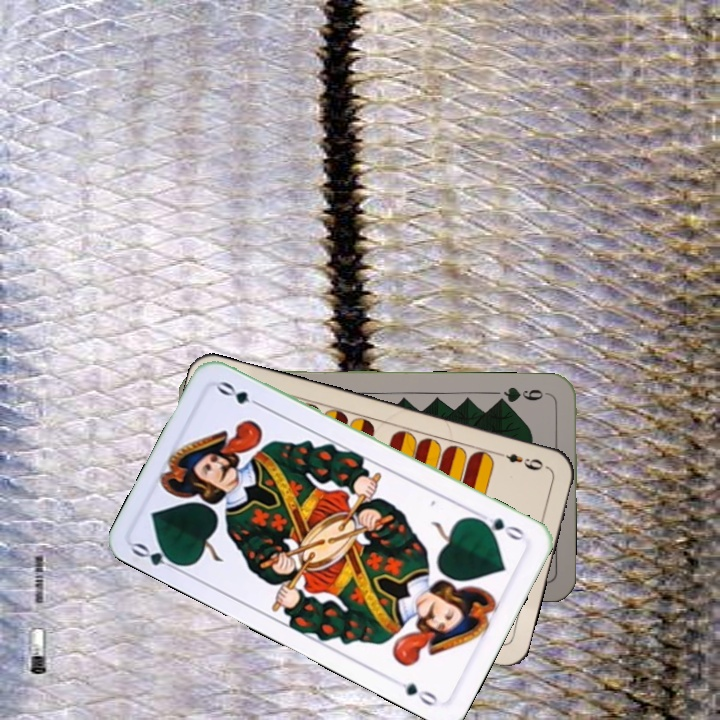E9: (492, 447, 546, 473)
G9: (493, 382, 552, 406)
GO: (128, 538, 186, 576), (472, 514, 527, 544)
